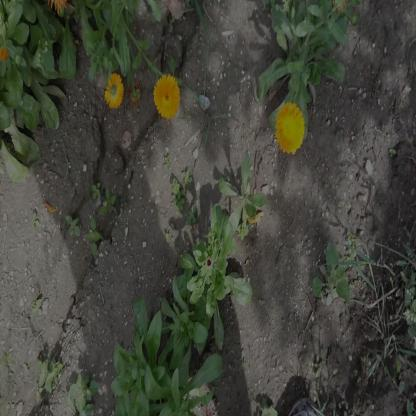marigold: (276, 99, 307, 151), (153, 76, 179, 119), (103, 70, 124, 110)
